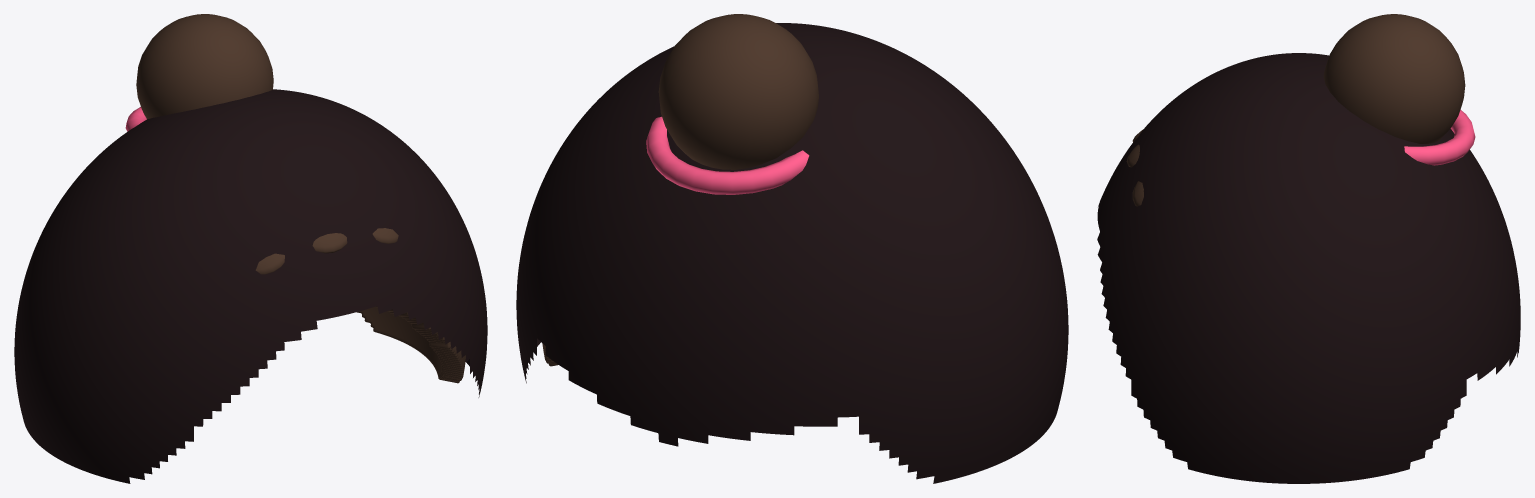
File: hair-bun.glb
3 renders of one model, left to right at view 1: azimuth 30°, elevation 25°; view 2: azimuth 150°, elevation 25°; view 3: azimuth 270°, elevation 25°, orthographic. The views are drawn at different scales.
Visible parts, largest first — view 1: Hair ink, Hair bun, Hair crown, Hair pulled back 2; view 2: Hair ink, Hair bun, Hair bun band; view 3: Hair ink, Hair bun, Hair bun band.
Boxes of the visible parts, <box> form: Hair ink: <box>14,89,487,483</box>; Hair bun: <box>136,14,273,119</box>; Hair crown: <box>357,306,465,383</box>; Hair pulled back 2: <box>312,233,347,253</box>; Hair ink: <box>516,23,1068,483</box>; Hair bun: <box>658,14,818,169</box>; Hair bun band: <box>646,116,809,194</box>; Hair ink: <box>1097,53,1520,483</box>; Hair bun: <box>1323,14,1465,143</box>; Hair bun band: <box>1404,109,1475,165</box>.
Size of the model in its own units: 0.5305 by 0.4184 by 0.4454.
